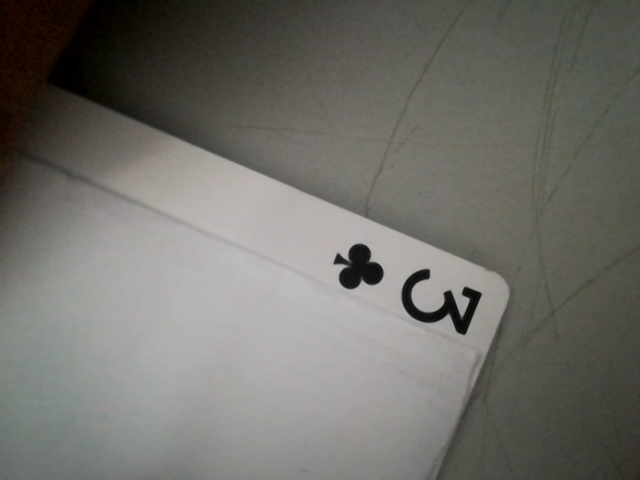mh 3: (317, 232, 492, 343)
